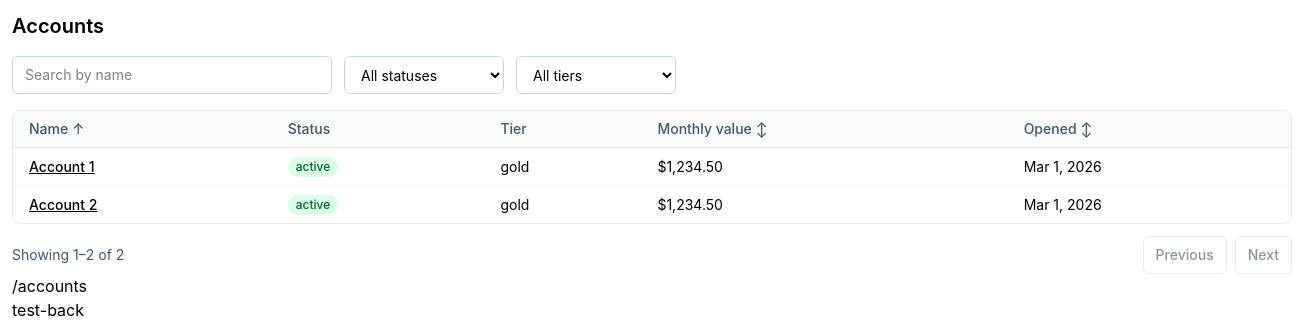
it: AccountsPage › navigates to the account when a row is clicked
Click the link "Account 2" at (63, 204), box [29,196,97,212]
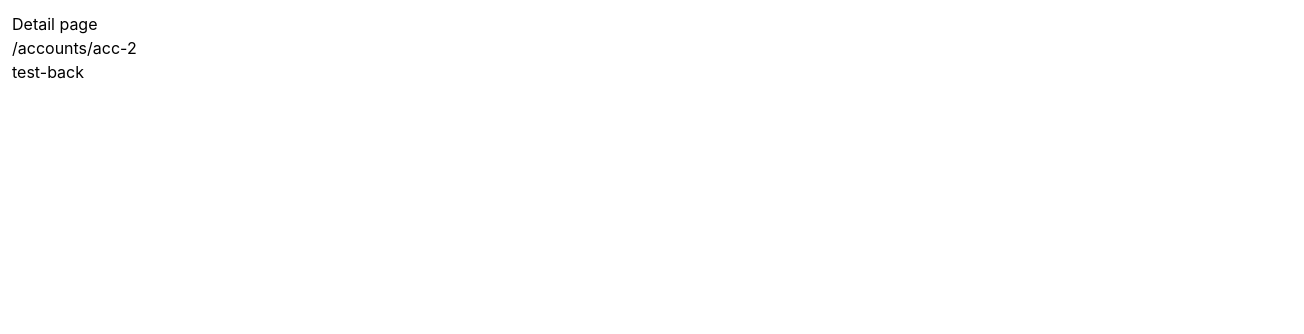
Expected: the heading "Detail page" is shown, [12,14,98,34]
Expected: the text with test id "where" reads "/accounts/acc-2", [12,38,137,58]
